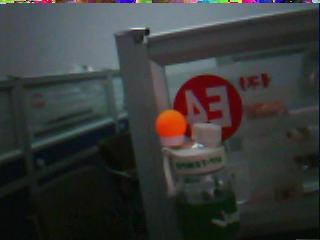oball: (155, 110, 186, 138)
